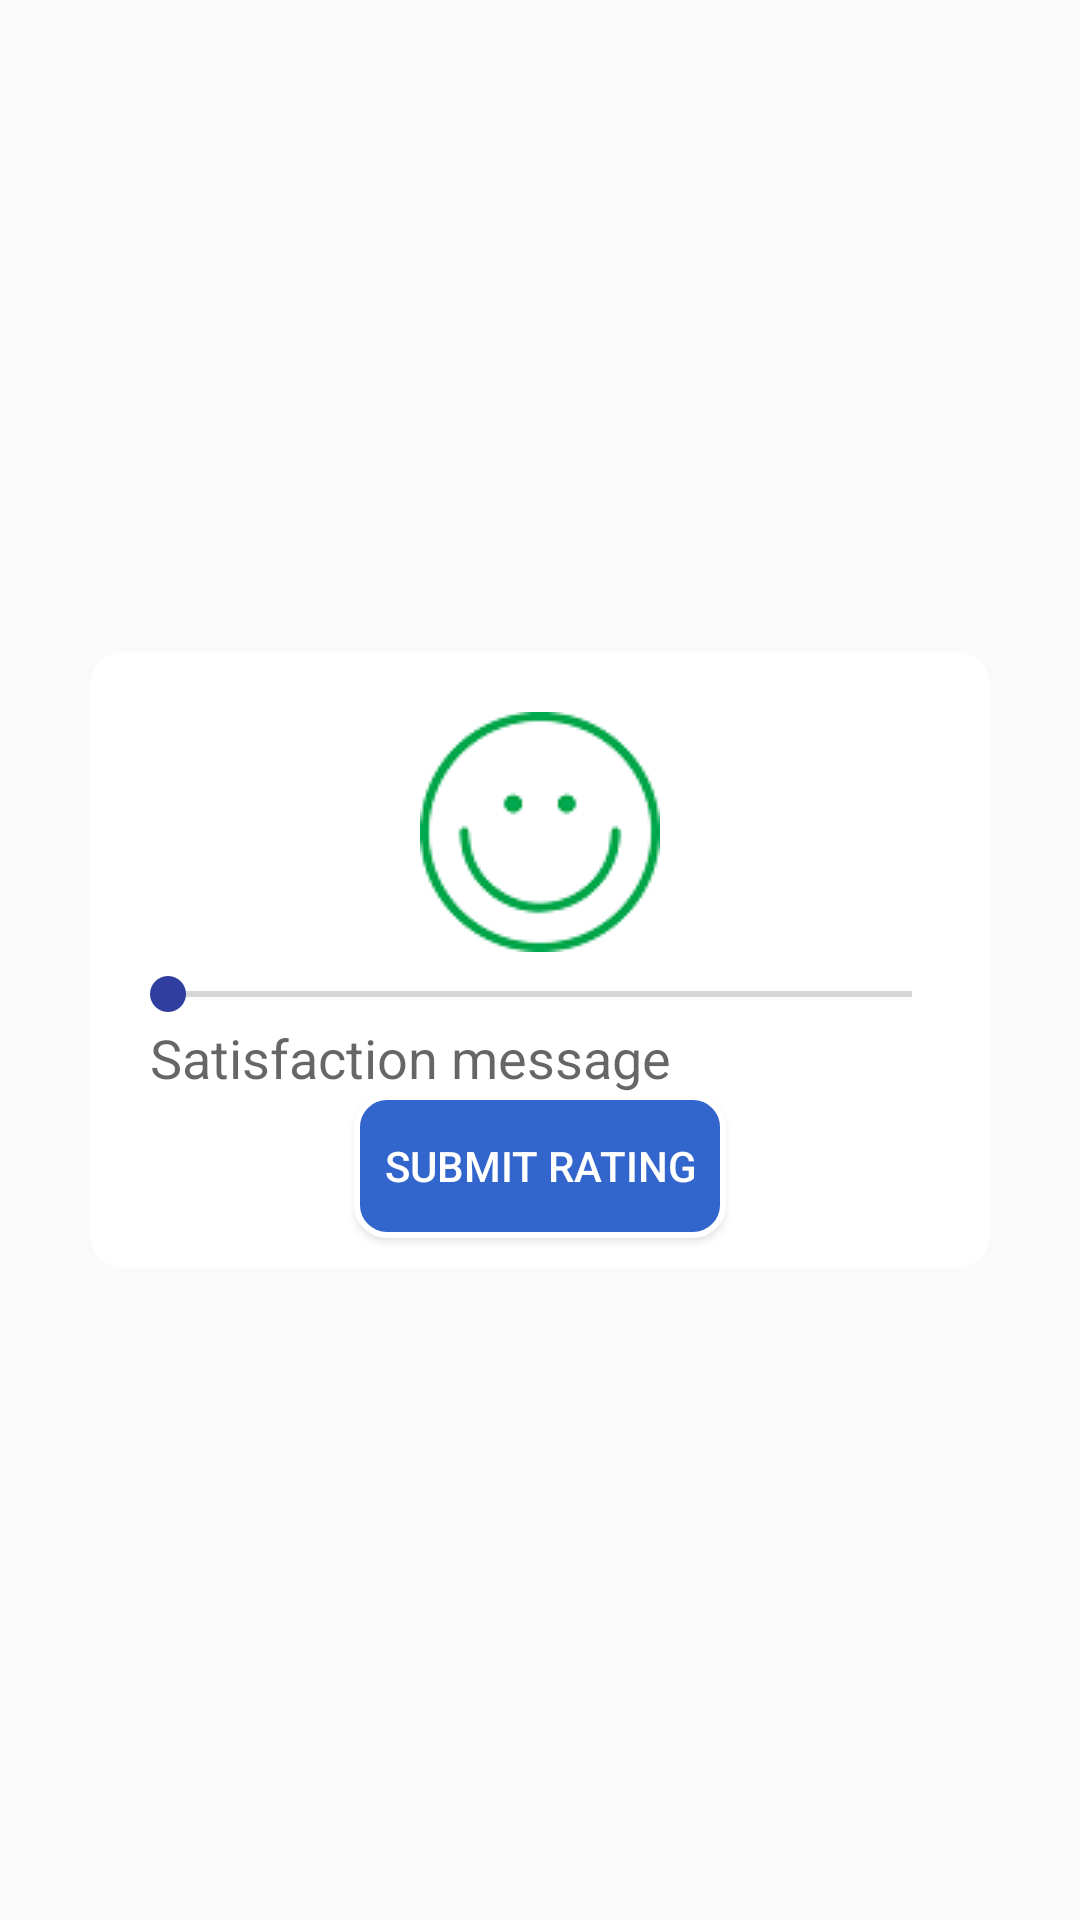

Where icons sit on this 1080px×1920px app screen, as [x1,y1,x2,y2]:
happy: [420,712,660,952]
